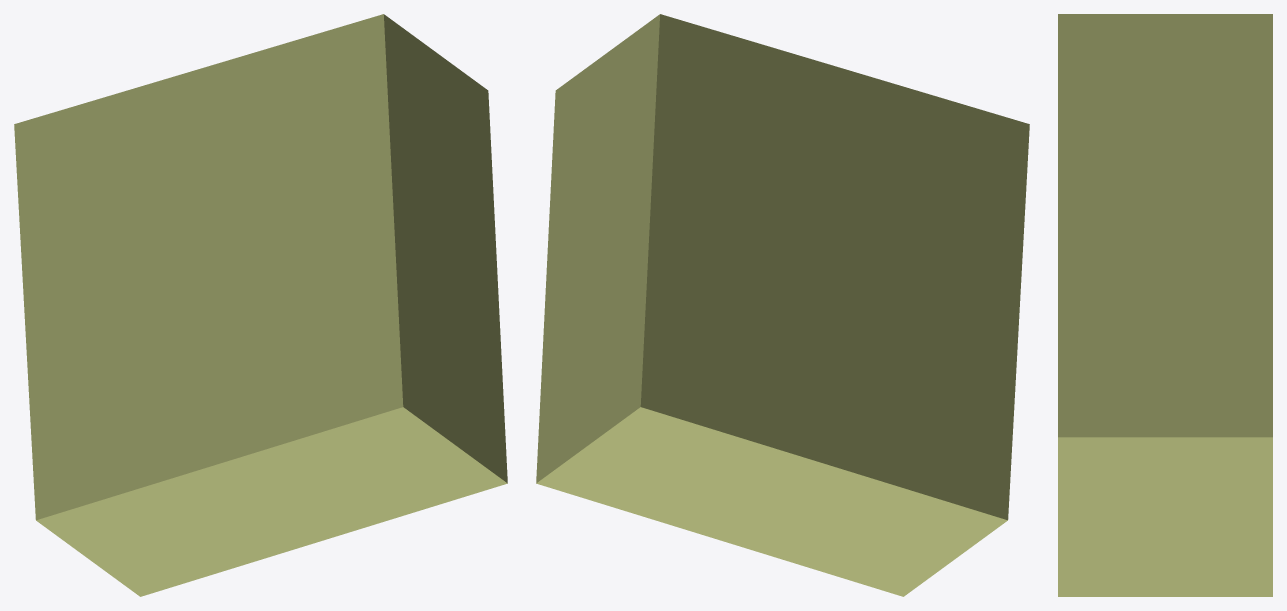
3 renders of one model, left to right at view 1: azimuth 30°, elevation 25°; view 2: azimuth 150°, elevation 25°; view 3: azimuth 270°, elevation 25°, orthographic. The views are drawn at different scales.
Visible parts, largest first — view 1: 0_0_3_1_2_3_1_0_2_1; view 2: 0_0_3_1_2_3_1_0_2_1; view 3: 0_0_3_1_2_3_1_0_2_1.
Boxes of the visible parts, box(x1,y1,x2,y2) form: 0_0_3_1_2_3_1_0_2_1: box(14, 14, 507, 596); 0_0_3_1_2_3_1_0_2_1: box(536, 14, 1029, 596); 0_0_3_1_2_3_1_0_2_1: box(1058, 14, 1272, 596).
Bounding box in the file's own units: 12.89 × 13.34 × 6.
